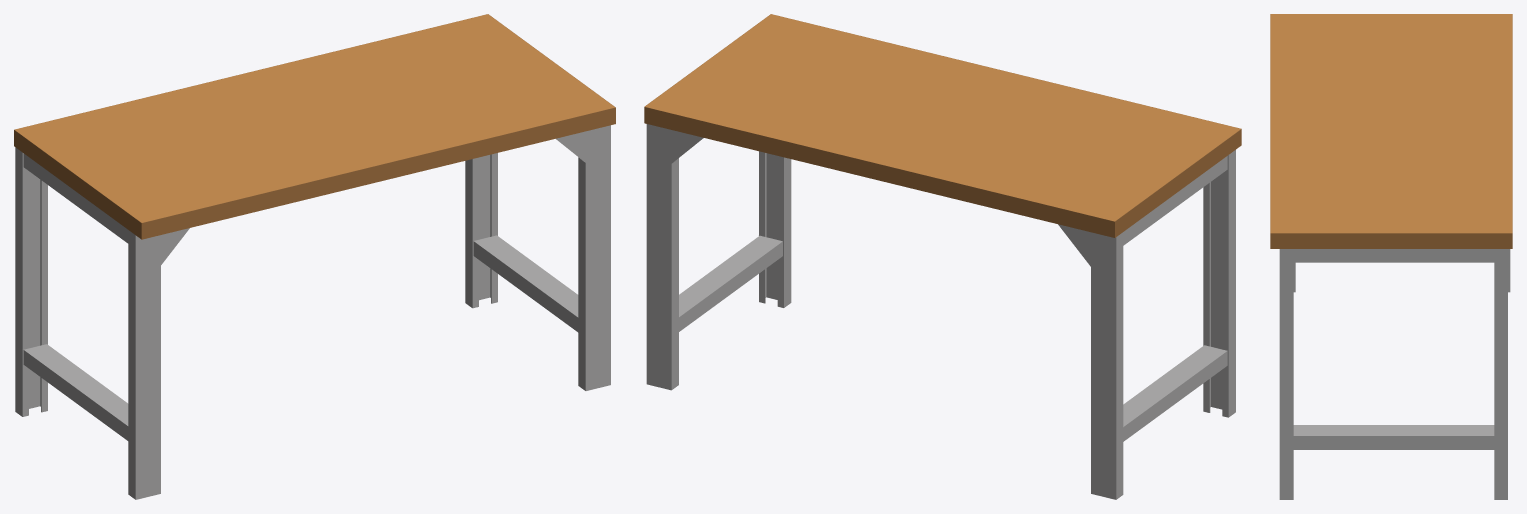
The picture shows the model from 3 angles, left to right: view 1: azimuth 30°, elevation 25°; view 2: azimuth 150°, elevation 25°; view 3: azimuth 270°, elevation 25°; orthographic projection. The views are drawn at different scales.
Parts seen in each view (by area): view 1: FbxMesh (×3); view 2: FbxMesh (×3); view 3: FbxMesh (×3).
Boxes of the visible parts, <box> form: FbxMesh (×3): <box>14,14,615,499</box>; FbxMesh (×3): <box>644,14,1241,499</box>; FbxMesh (×3): <box>1270,14,1512,499</box>.
Size of the model in its own units: 150 by 85 by 70.
